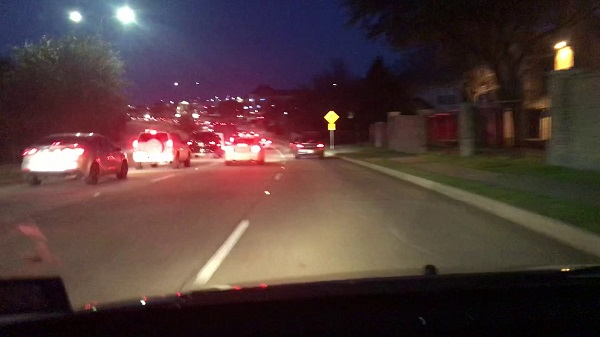car: (19, 130, 131, 185), (132, 130, 195, 170), (222, 134, 264, 165), (188, 130, 223, 157), (294, 135, 327, 156)
